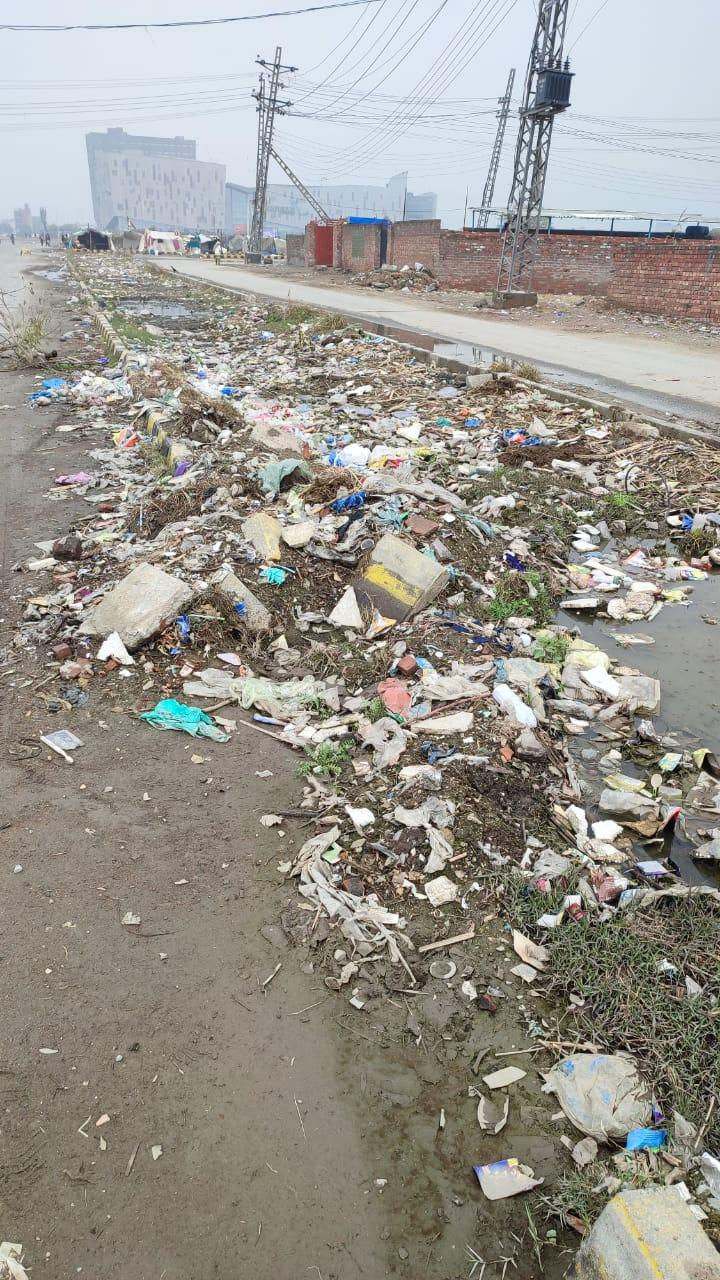garbage: (78, 343, 720, 1019)
